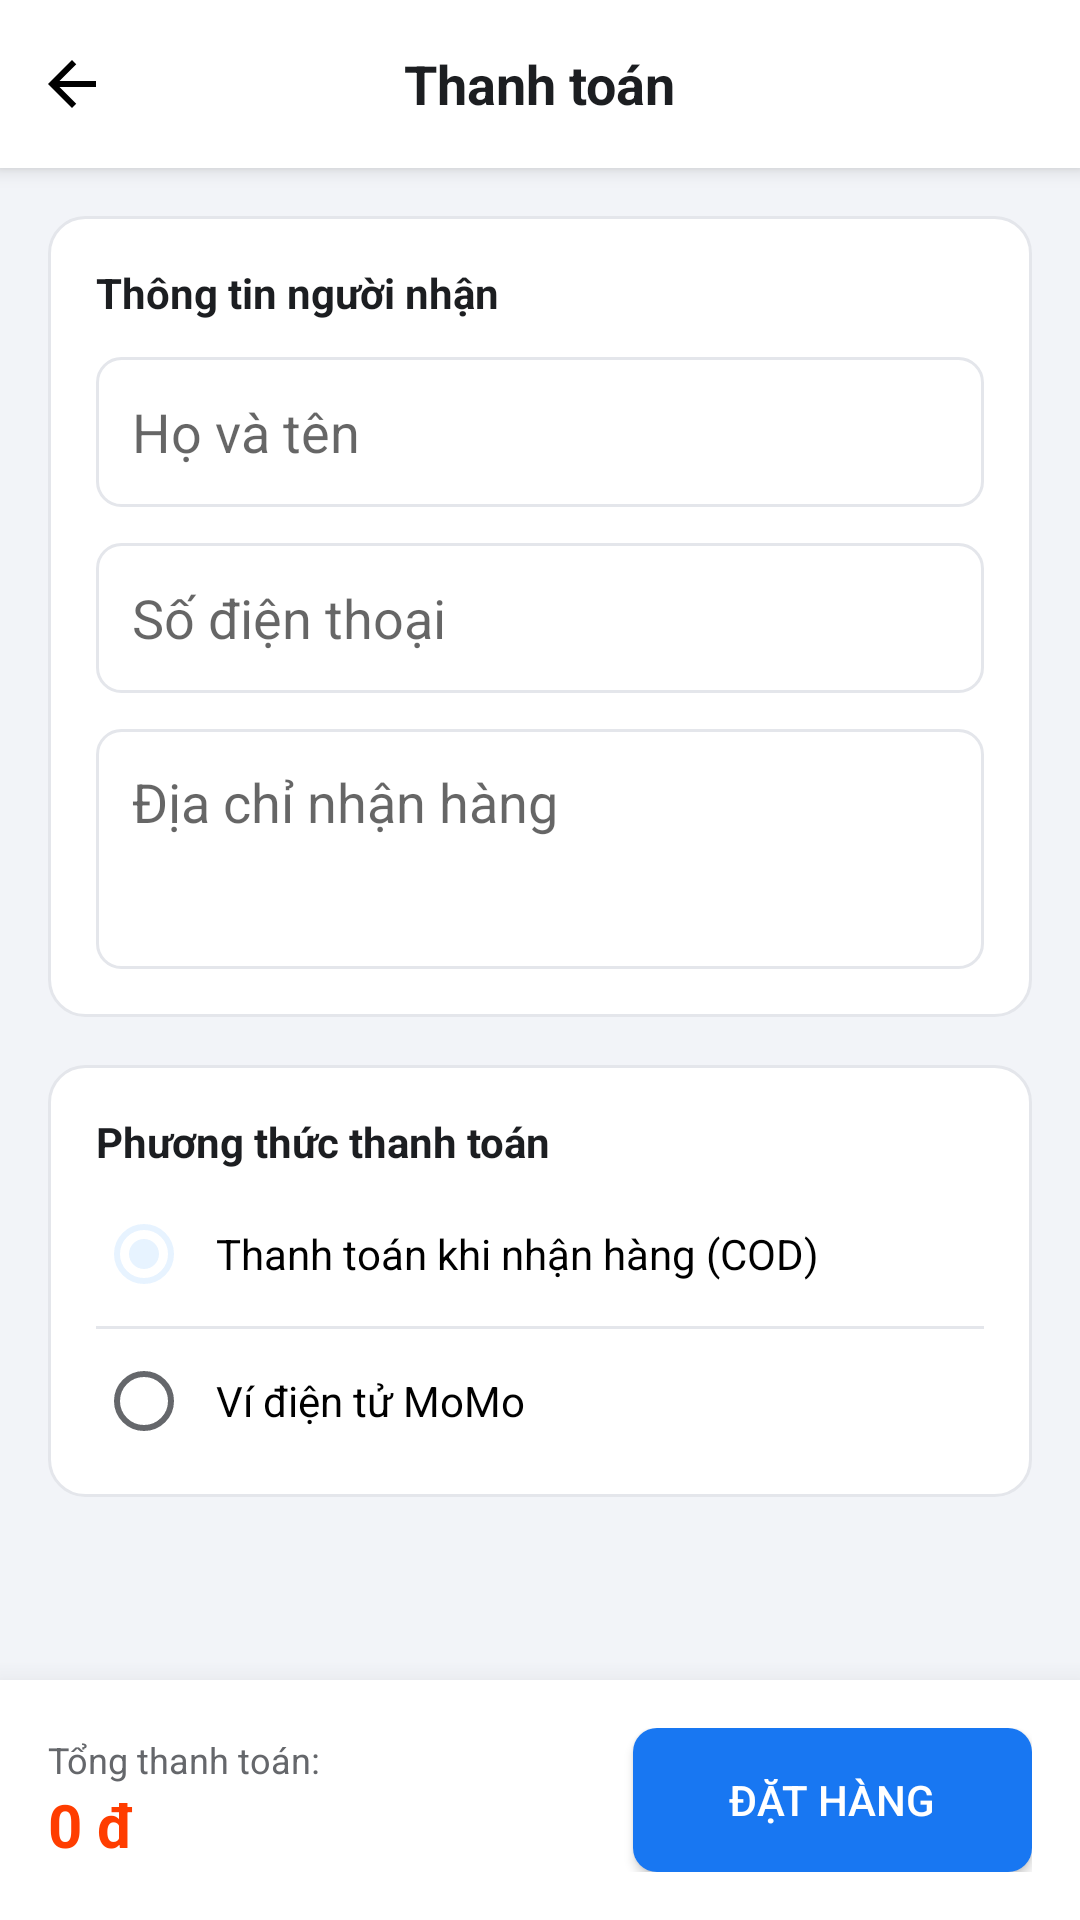

Point at icon controls on the screen. Image size 1080px×1920px, points as (x,y).
arrow back: (72,84)
